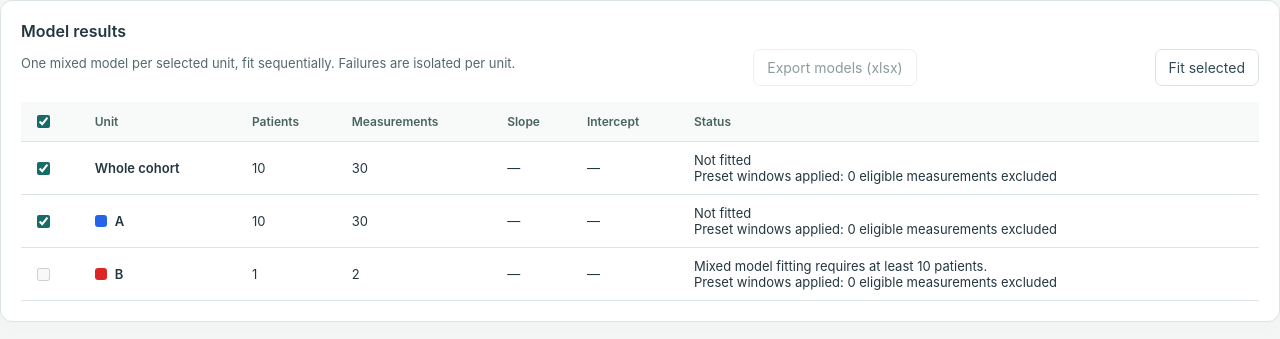
Test: does not suggest a connection problem for an ordinary model fit failure
Click the button "Fit selected": [1207, 68] box [1154,49,1259,86]
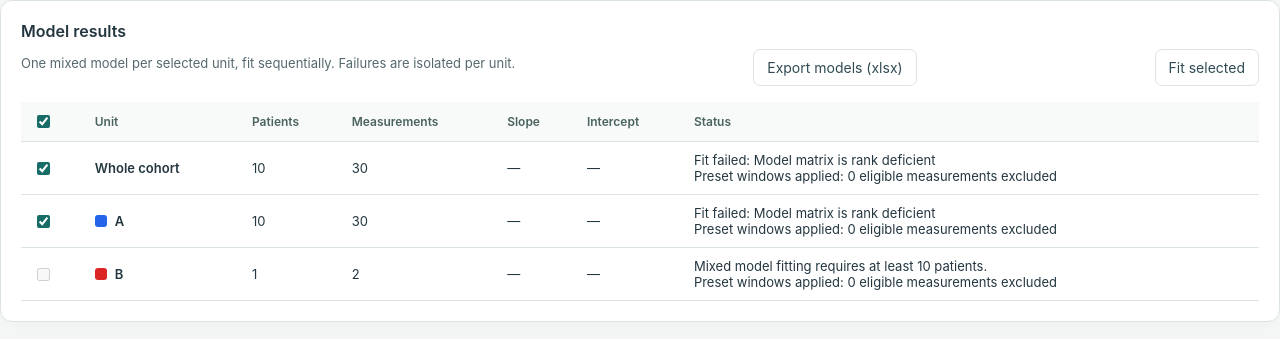
expect the cell with test id "cohort-model-status" in the row of "Whole cohort" shows "Model matrix is rank deficient": met, box [694,152,935,168]
